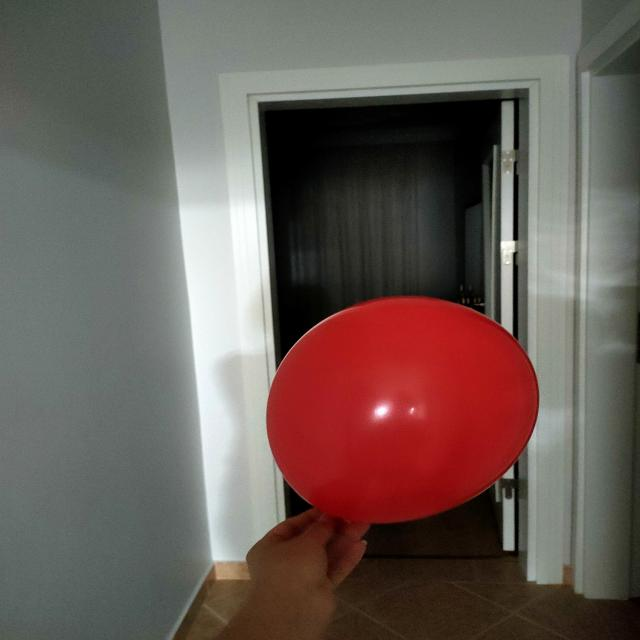red: (268, 297, 541, 524)
